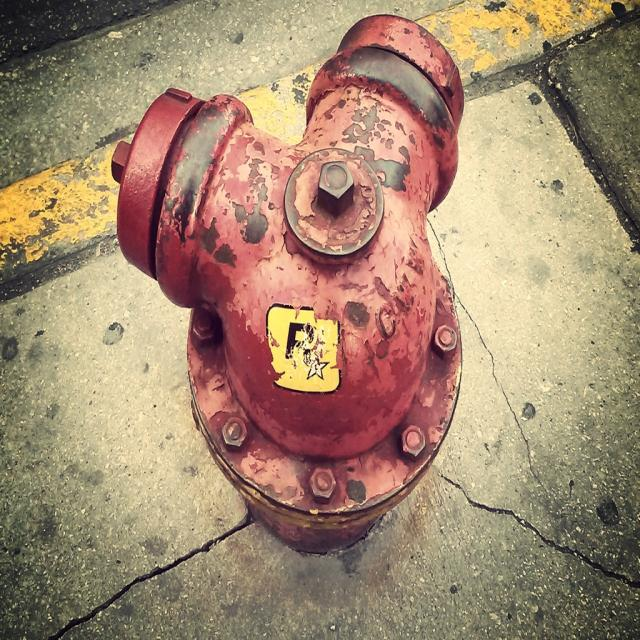fire_hydrant: (109, 13, 464, 557)
